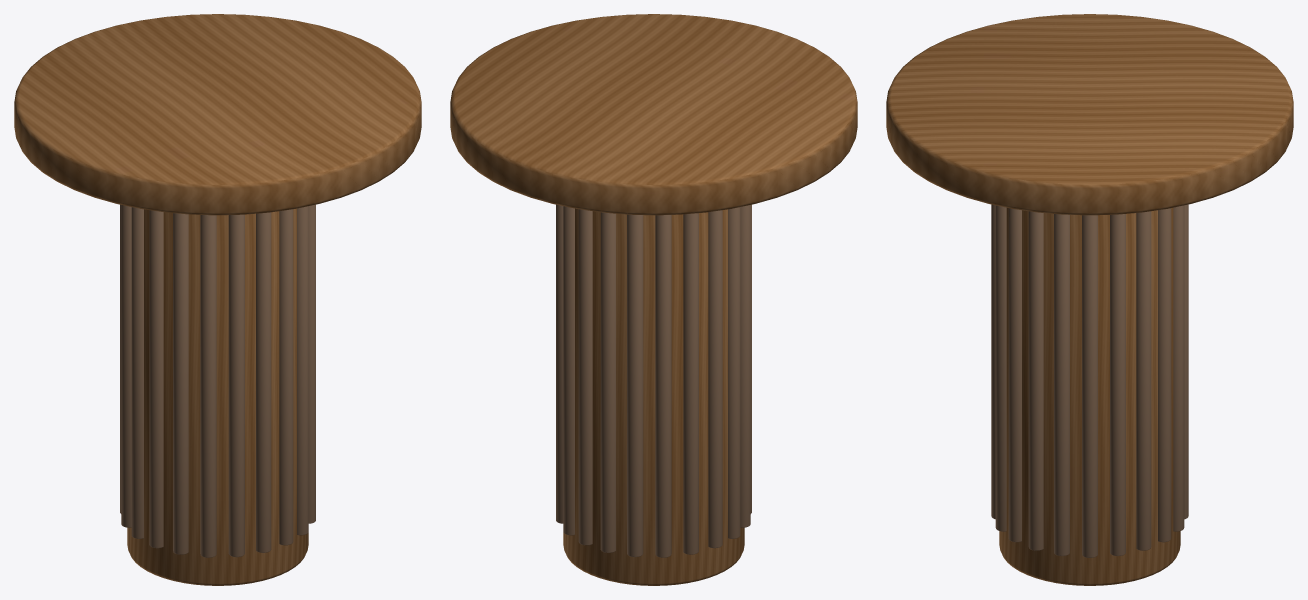
File: side-table.glb
3 views of the same model, side by side, from view 1: azimuth 30°, elevation 25°; view 2: azimuth 150°, elevation 25°; view 3: azimuth 270°, elevation 25° (orthographic).
Visible parts, largest first — view 1: side-table-mesh; view 2: side-table-mesh; view 3: side-table-mesh.
Part boxes in pixels (<box>): side-table-mesh: <box>14,14,421,585</box>; side-table-mesh: <box>450,14,857,585</box>; side-table-mesh: <box>886,14,1293,585</box>.
Size of the model in its own units: 0.45 by 0.55 by 0.45.
2 materials, 1 textured.
